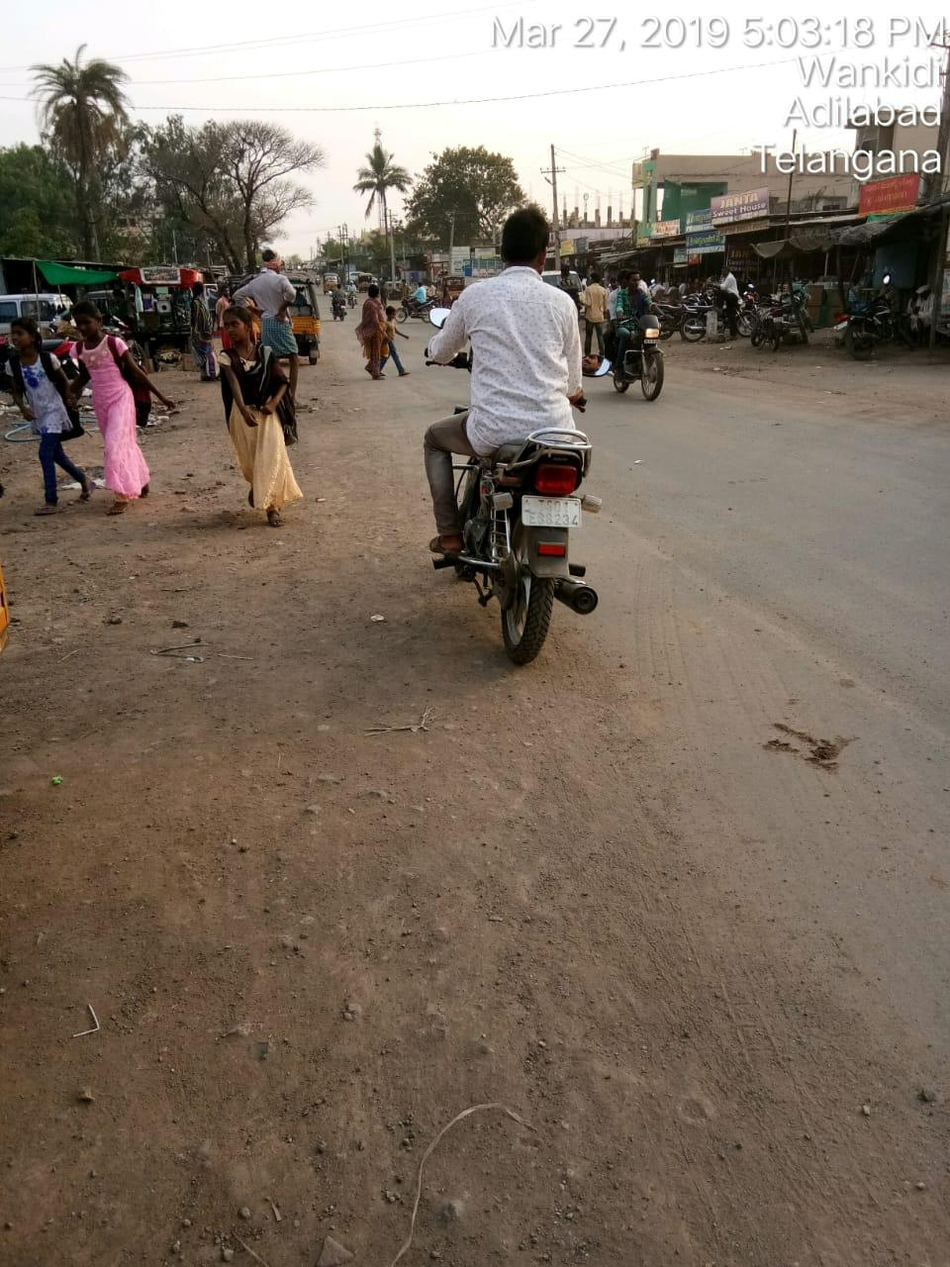plate: (516, 490, 587, 535)
